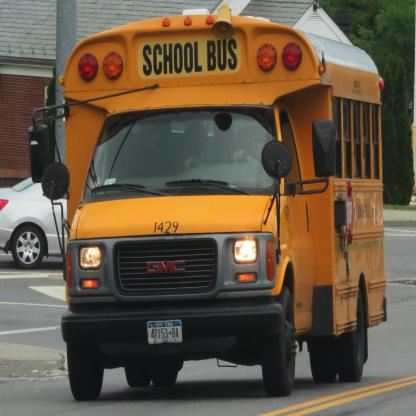Bus: (27, 0, 384, 401)
